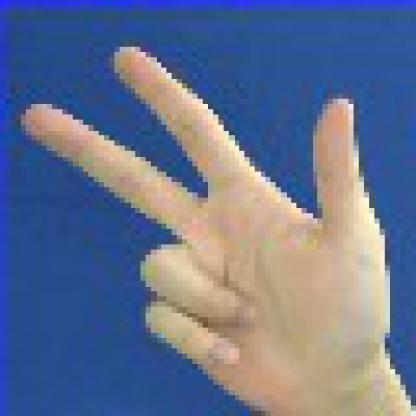eight: (10, 36, 411, 411)
